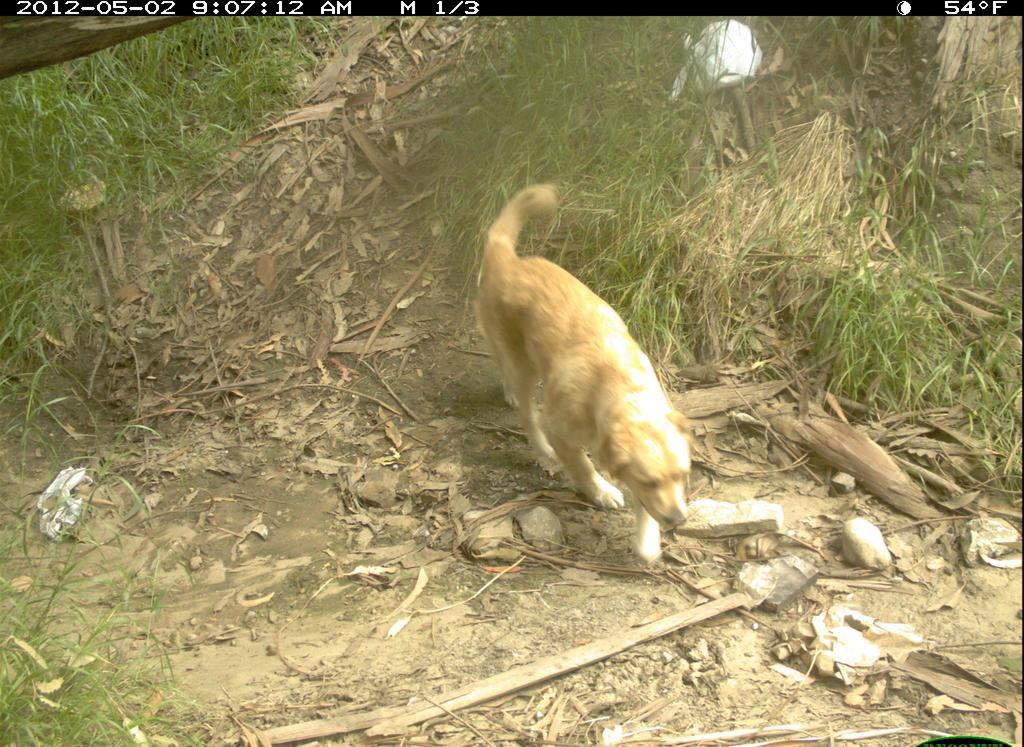dog: (470, 176, 711, 565)
